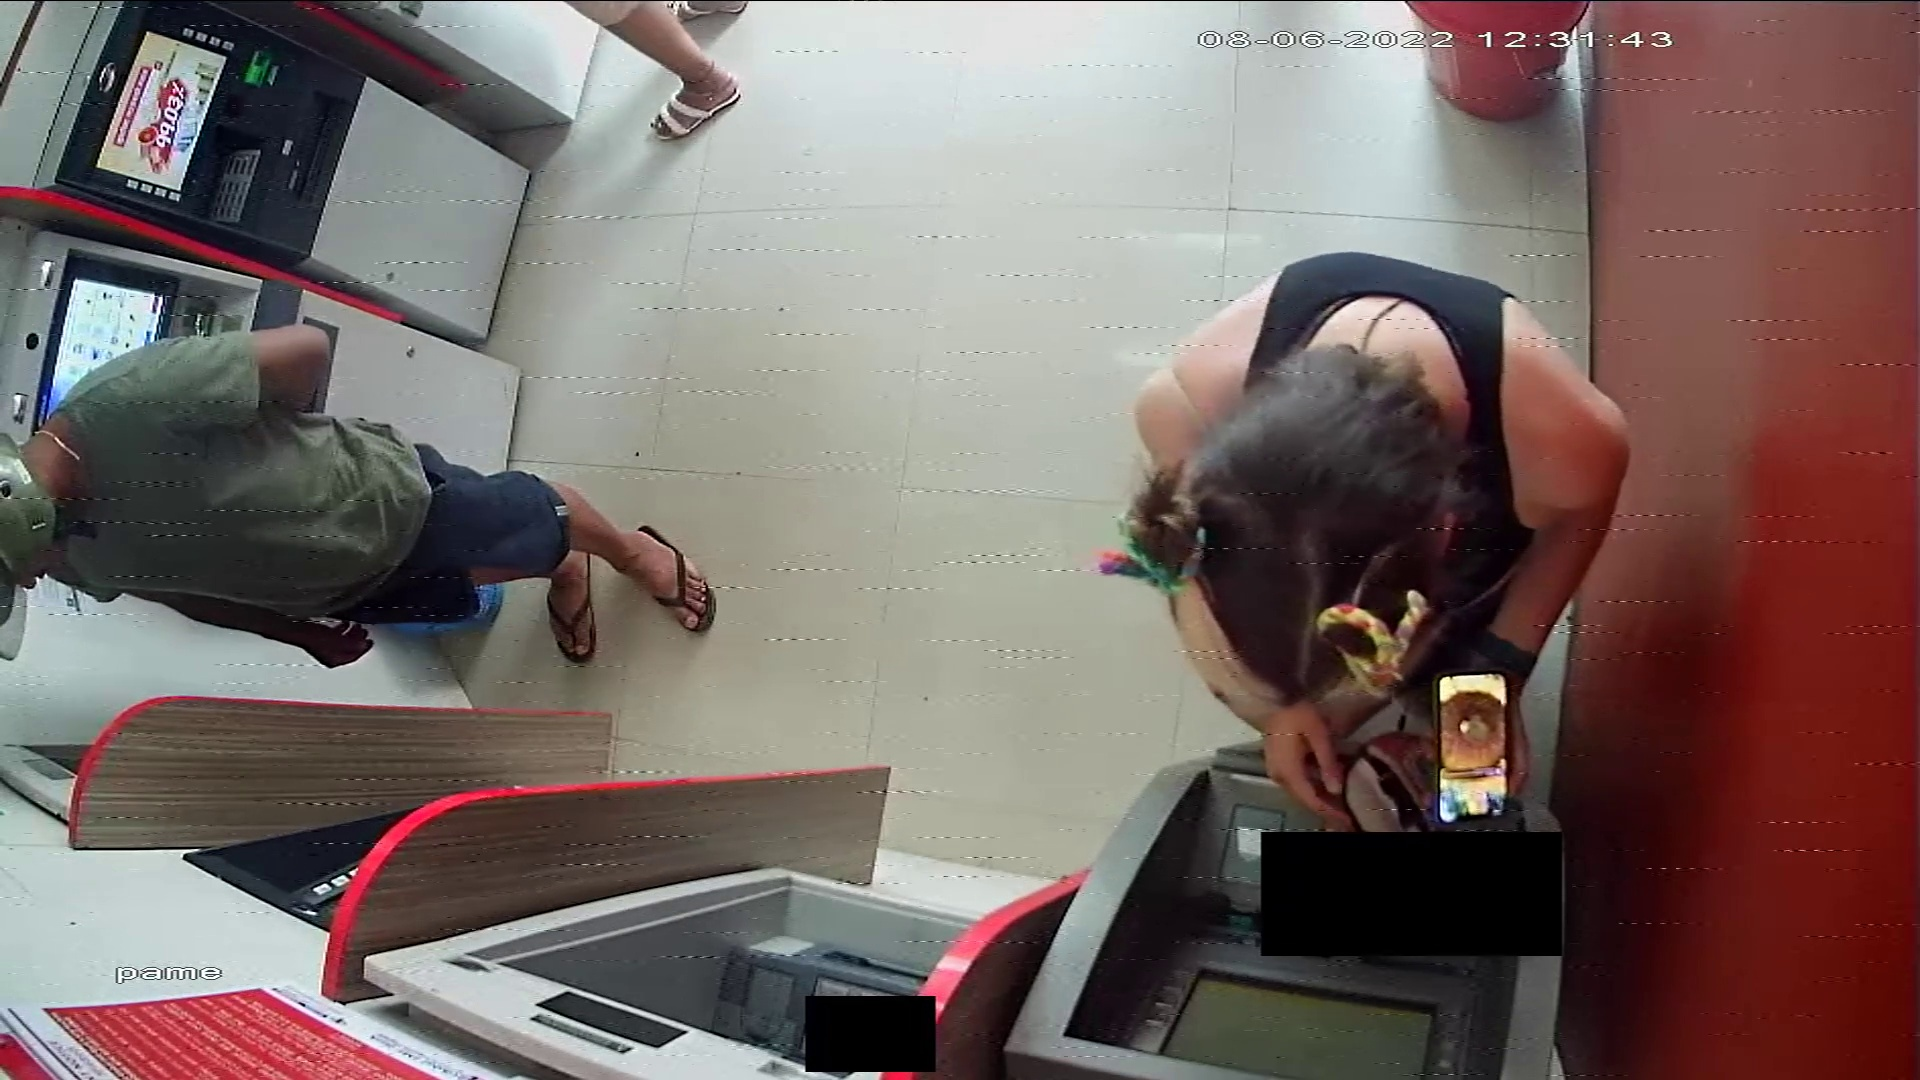helmet: (1, 427, 60, 662)
person: (1134, 252, 1630, 830), (1, 326, 718, 665), (1434, 673, 1511, 825)
